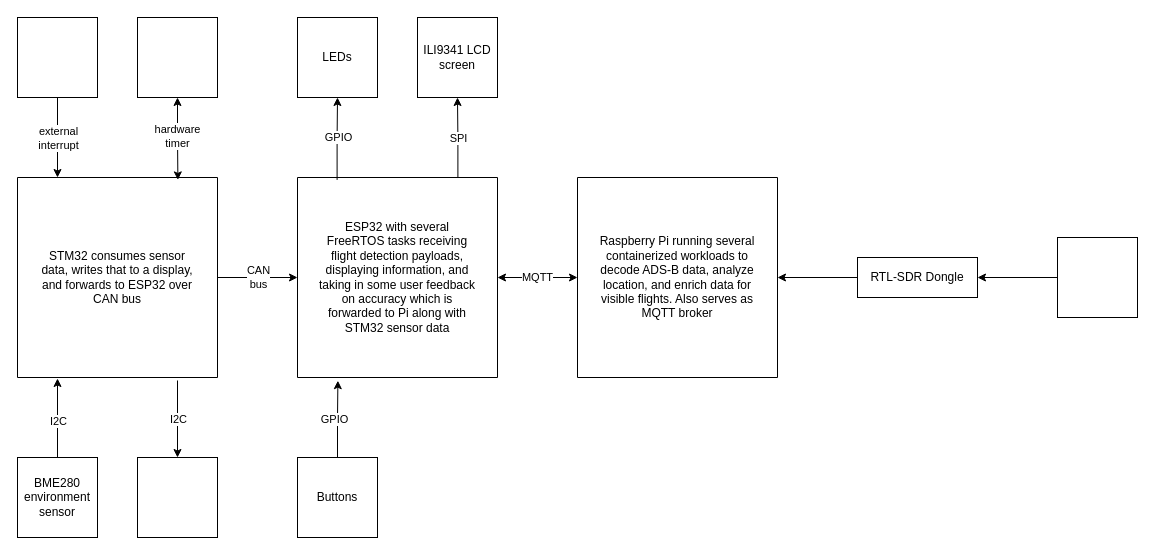
Image size: 1155x555. Some labels were removed from this diagram. Here are the shapes that lost their labels. From the top down, the box of each, then its label:
(16, 16, 98, 98): AM312 PIR sensor
(136, 16, 218, 98): HC-SR04 ultrasonic sensor
(1056, 236, 1138, 318): Antenna
(136, 456, 218, 538): OLED display
